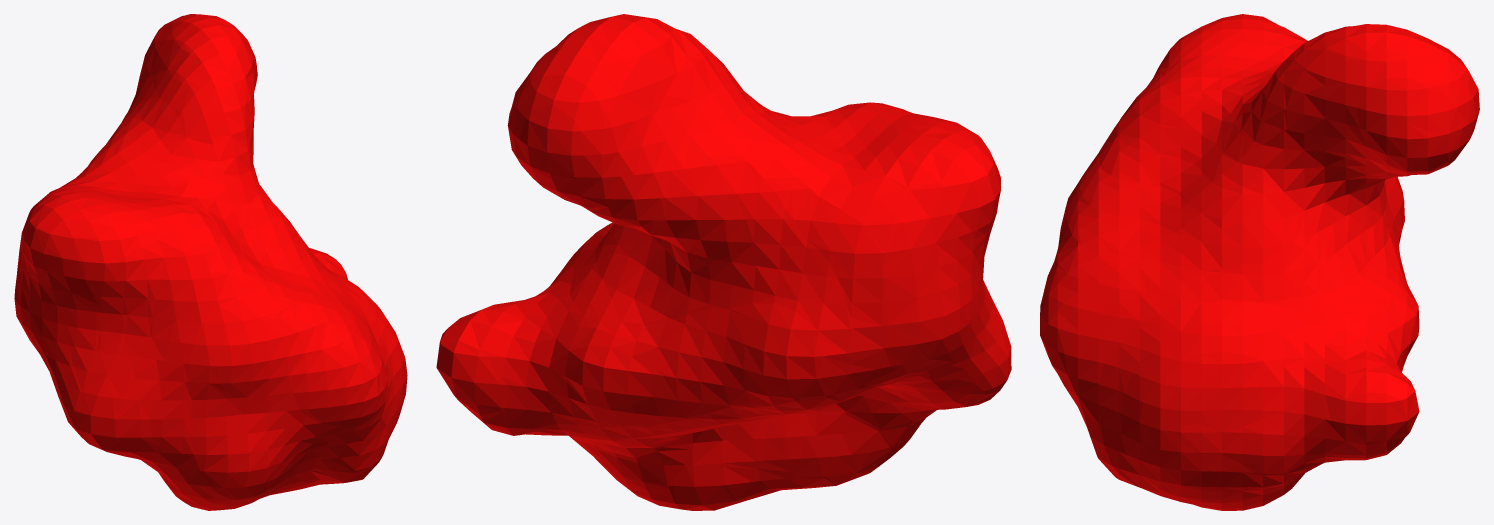
The model's file is ygiN_coarse.dae.
3 renders of one model, left to right at view 1: azimuth 30°, elevation 25°; view 2: azimuth 150°, elevation 25°; view 3: azimuth 270°, elevation 25°, orthographic. The views are drawn at different scales.
Parts seen in each view (by area): view 1: ygiN; view 2: ygiN; view 3: ygiN.
Boxes of the visible parts, x1,y1,x2,y2 form: ygiN: (14,14,407,510); ygiN: (436,14,1011,510); ygiN: (1040,14,1479,510).
Size of the model in its own units: 40.79 by 44.06 by 37.53.
